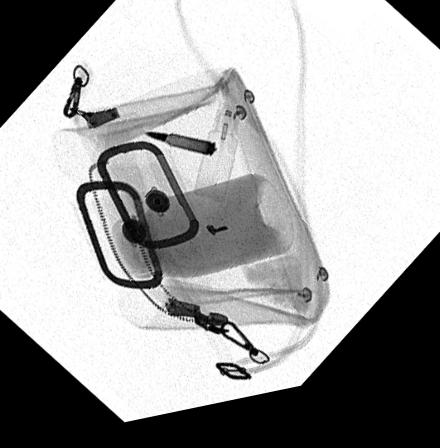Bullet: (143, 135, 215, 165)
